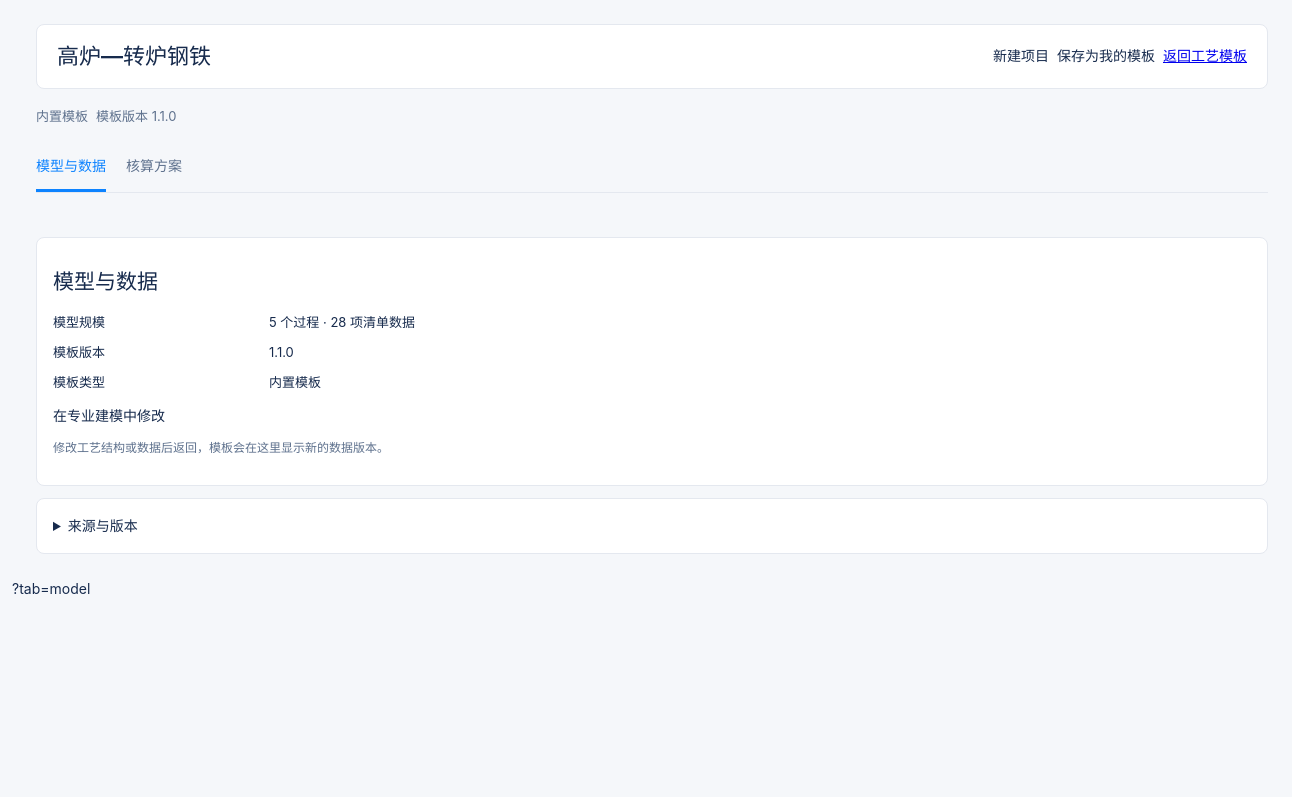
it: shows model scale and the exact data version on the model tab
Check: the text "5 个过程 · 28 项清单数据" is shown, box [269,314,415,330]
Click the heading "来源与版本" at (103, 525), box [68,517,138,534]
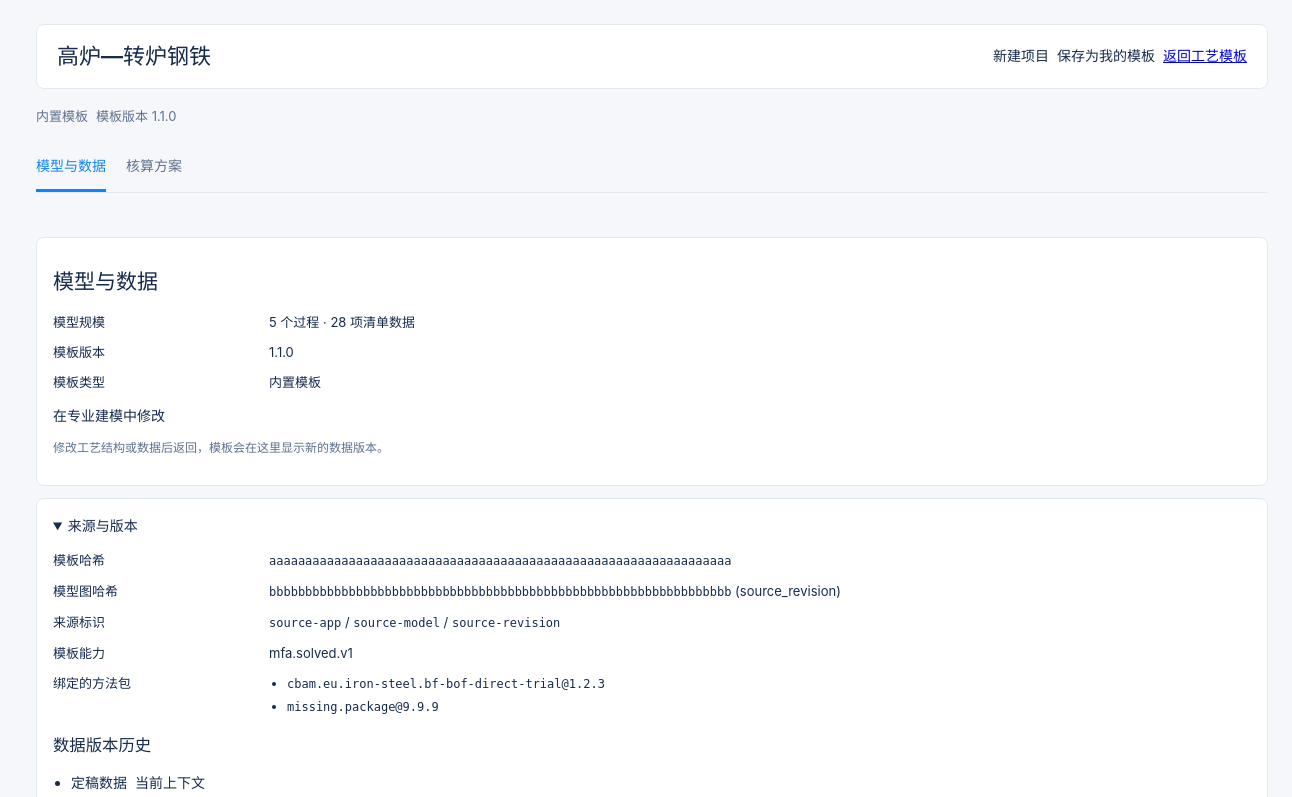
Check: the list item "定稿数据" is shown, box [71,774,127,791]
Check: the text "当前上下文" is shown, box [135,774,205,791]
